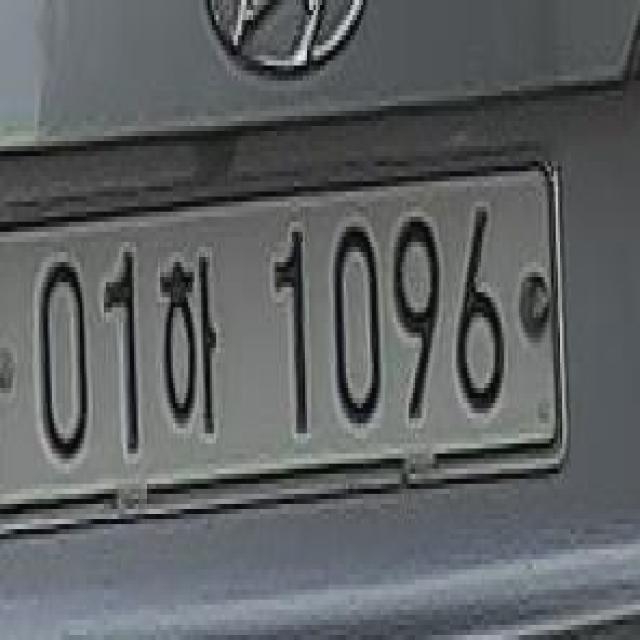illegal_plate: (0, 148, 576, 521)
